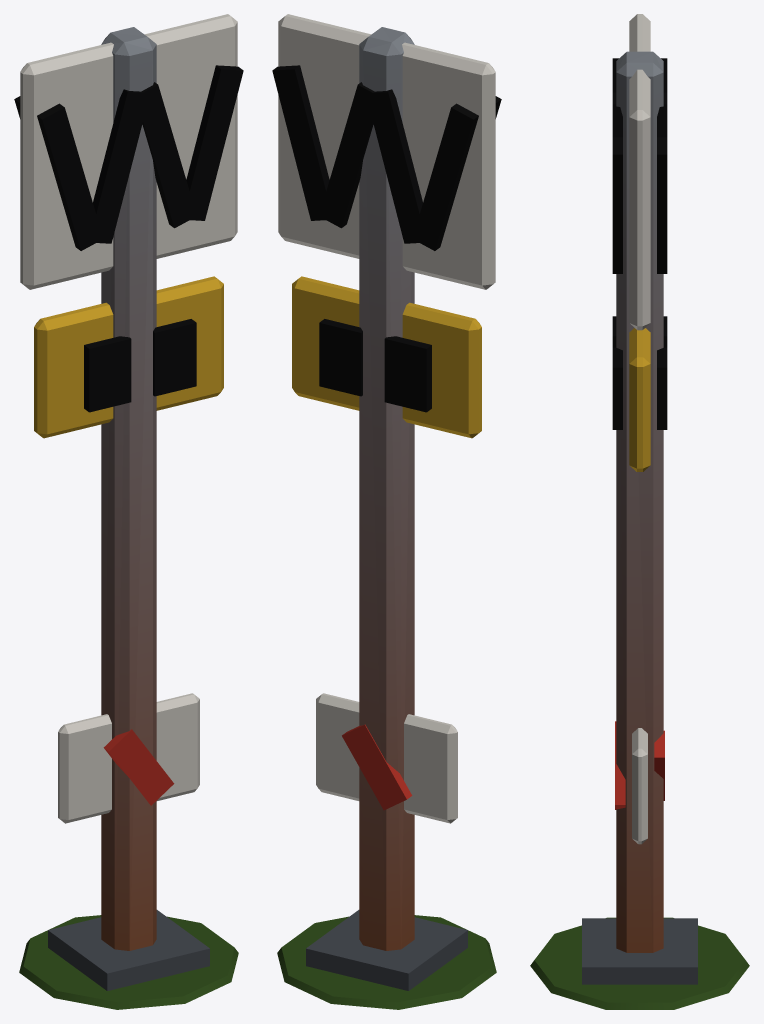
Rendered from trackside-warning-sign.glb.
3 renders of one model, left to right at view 1: azimuth 30°, elevation 25°; view 2: azimuth 150°, elevation 25°; view 3: azimuth 270°, elevation 25°, orthographic. The views are drawn at different scales.
Visible parts, largest first — view 1: trackside_warning_sign; view 2: trackside_warning_sign; view 3: trackside_warning_sign.
Part boxes in pixels (x1,y1,x2,y2): trackside_warning_sign: (14, 14, 243, 1009); trackside_warning_sign: (272, 14, 501, 1009); trackside_warning_sign: (530, 14, 749, 1009).
Size of the model in its own units: 0.46 by 1.9 by 0.416.
